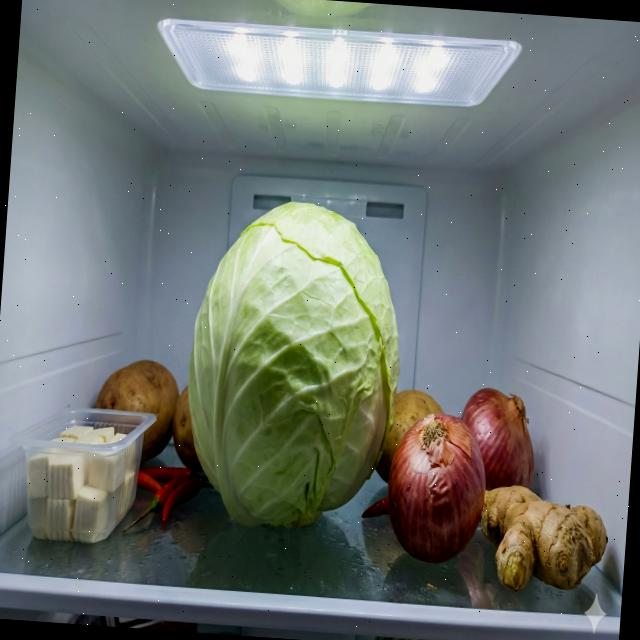cabbage: (177, 193, 412, 538)
chili: (121, 461, 204, 541)
ginger: (476, 484, 611, 598)
onion: (382, 381, 539, 570)
potato: (90, 357, 208, 469), (374, 386, 447, 486)
tofu: (20, 420, 140, 545)
